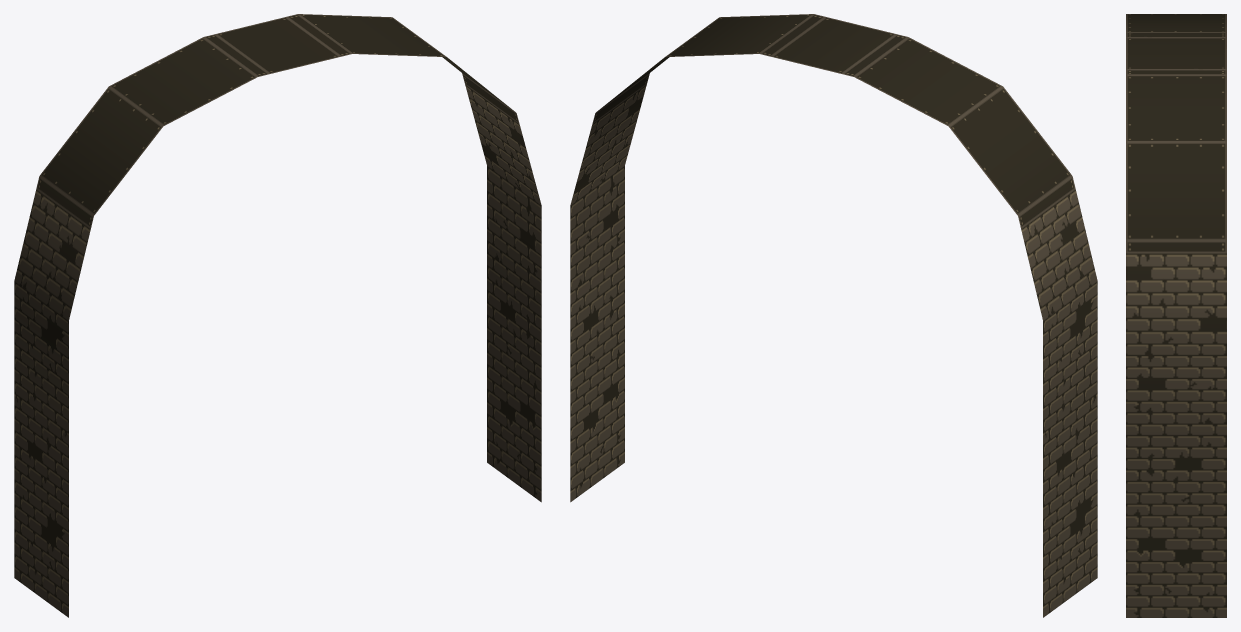
Rendered from Arc02Type01.fbx.
The picture shows the model from 3 angles, left to right: view 1: azimuth 30°, elevation 25°; view 2: azimuth 150°, elevation 25°; view 3: azimuth 270°, elevation 25°; orthographic projection. The views are drawn at different scales.
Visible parts, largest first — view 1: Arc02Type01, Arc01Type01; view 2: Arc02Type01, Arc01Type01; view 3: Arc01Type01, Arc02Type01.
Boxes of the visible parts, x1,y1,x2,y2 form: Arc02Type01: (14, 25, 304, 617); Arc01Type01: (251, 14, 541, 502); Arc02Type01: (807, 25, 1097, 617); Arc01Type01: (570, 14, 860, 502); Arc01Type01: (1126, 53, 1226, 617); Arc02Type01: (1126, 14, 1226, 53).
Size of the model in its own units: 1000 by 1000 by 200.
